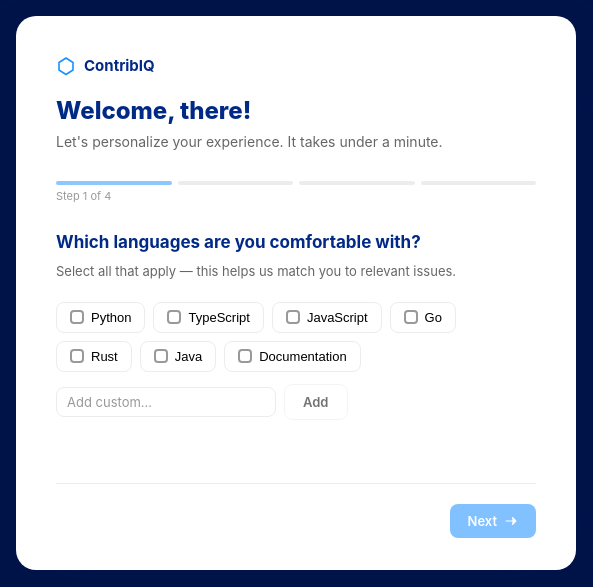
Test: OnboardingSetupPage — step 2 interests gating › shows "Step 3 of 4" at step 2
Step 1. Click the button "Python" → (101, 317), box x1=56 y1=302 x2=146 y2=333
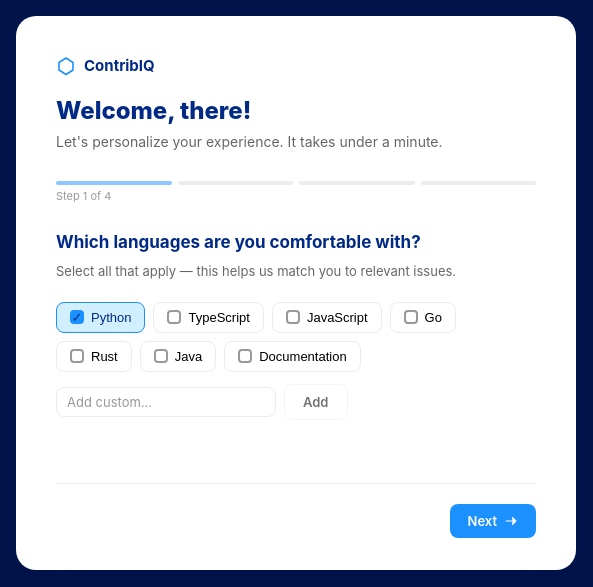
Step 2. Click the button "Next" → (493, 521), box x1=450 y1=504 x2=536 y2=538
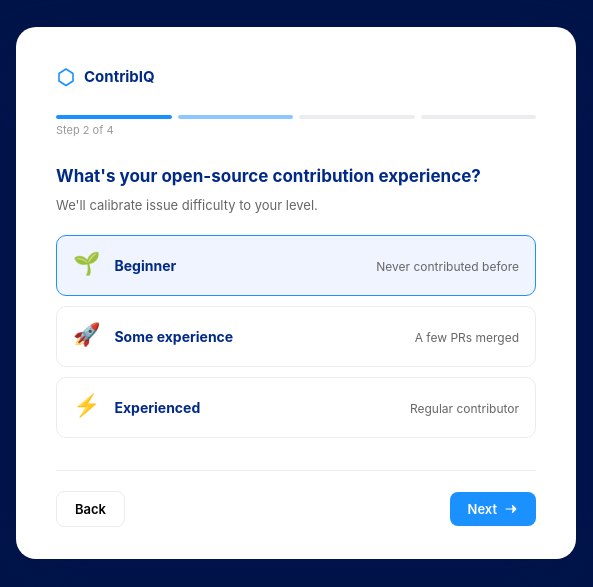
Step 3. Click the button "Next" → (493, 509), box x1=450 y1=492 x2=536 y2=526
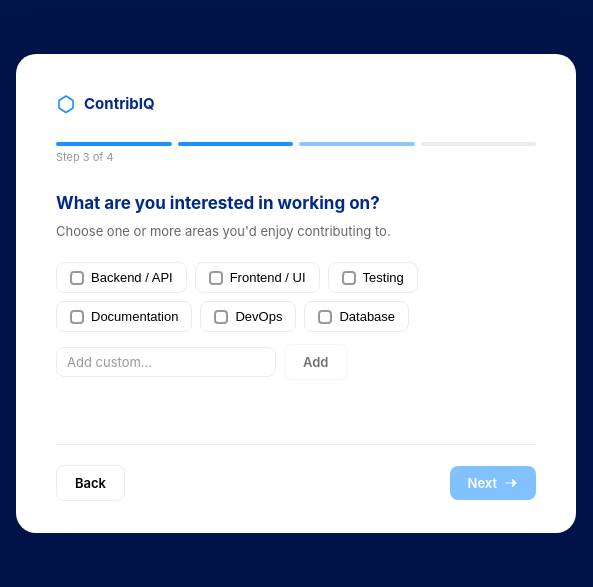
Result: the text "Step 3 of 4" is shown at x1=56 y1=150 x2=114 y2=164
